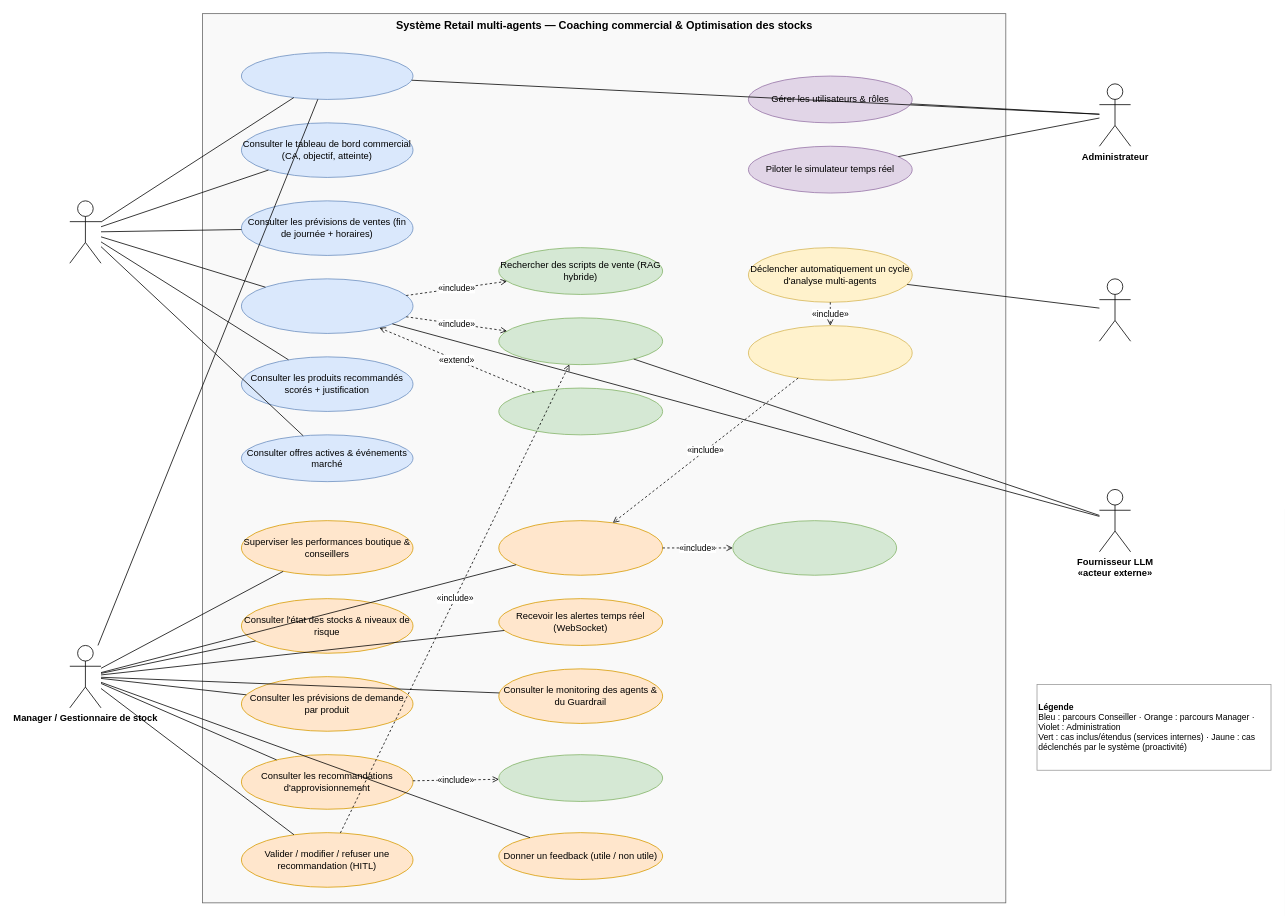
Some shapes in this 1285 by 916 pixel diagram are drawn without their labels. The shapes that lost their labels are listed below. From the top down, each one's centre as x and y in pixels, then its label:
(x=327, y=75): S'authentifier (JWT / RBAC)
(x=85, y=231): Conseiller
(x=327, y=305): Dialoguer avec le Coach en langage naturel (streaming SSE)
(x=1115, y=309): AlertBus (Redis) «acteur système»
(x=580, y=341): Contrôler la réponse générée (Guardrail)
(x=830, y=352): Suggérer un bon de commande sur le Kanban (statut SUGGÉRÉ)
(x=580, y=411): Proposer un produit de substitution (rupture)
(x=580, y=547): Gérer le Kanban des commandes (SUGGÉRÉ → REÇU)
(x=814, y=547): Réceptionner une commande (mise à jour du stock)
(x=580, y=777): Consulter la justification d'une décision
